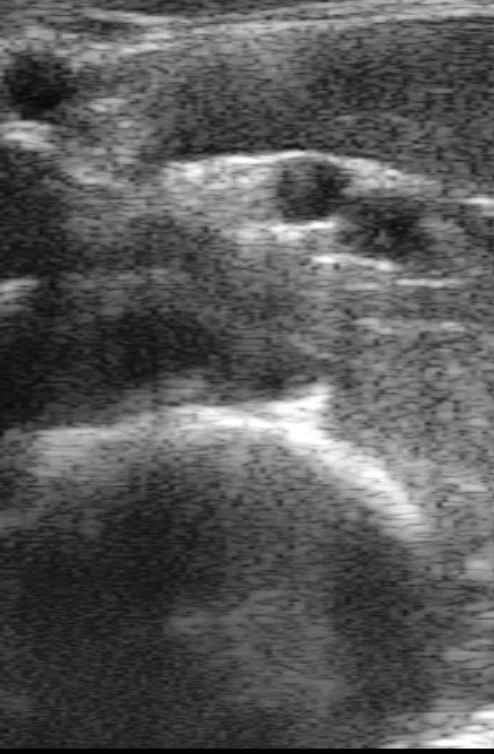veins_detect: (336, 189, 451, 275), (2, 45, 85, 130), (267, 150, 353, 225)
veins_seg: (3, 49, 432, 264)
